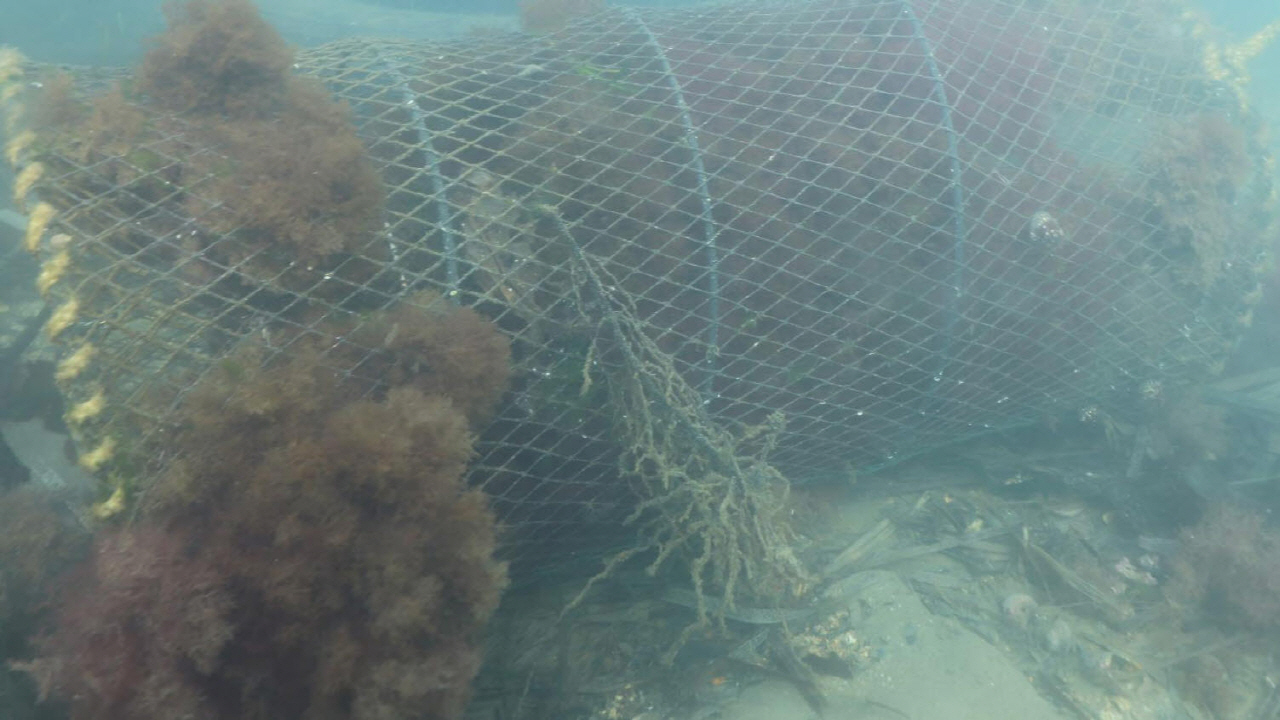bundle of ropes: (1204, 20, 1280, 81)
spring fish trap: (0, 0, 1275, 577)
